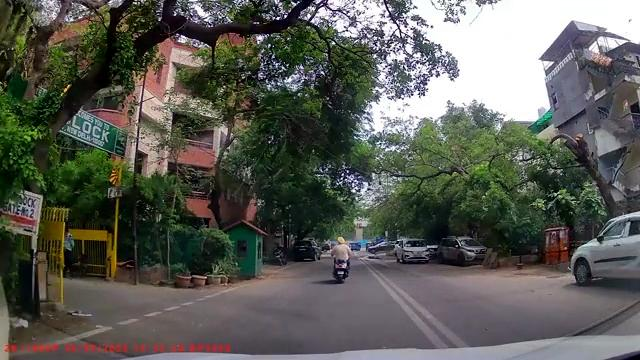motorcycle_with_helmet: (331, 234, 351, 282)
